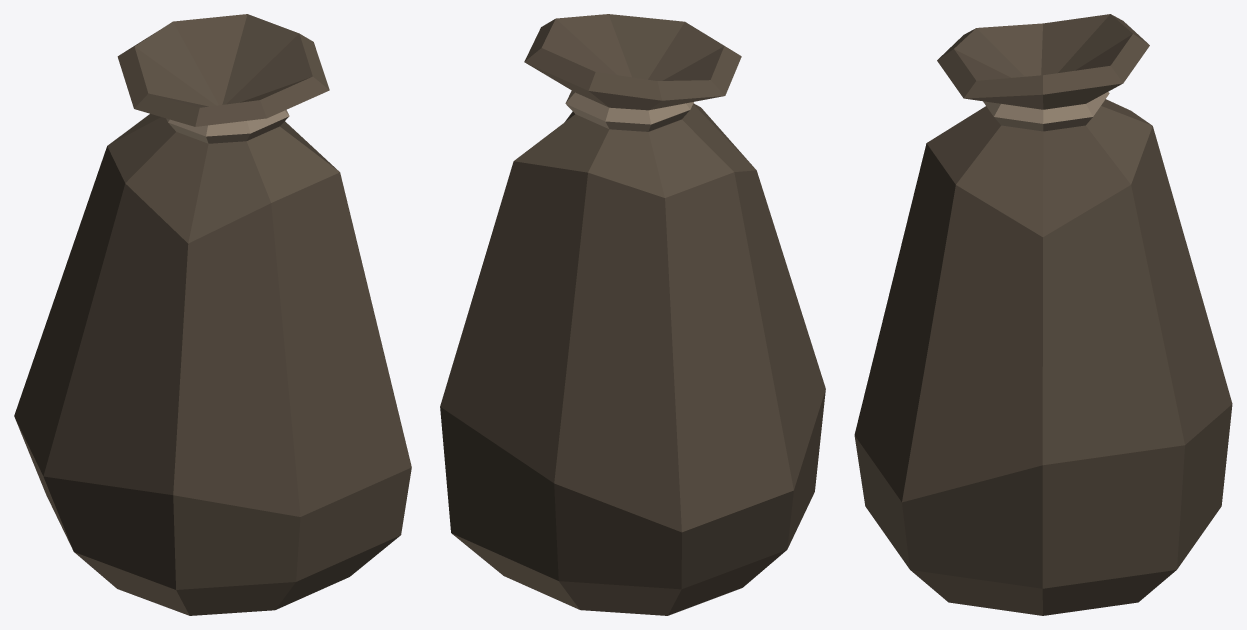
The model's file is SM_Prop_Sack_03.glb.
The picture shows the model from 3 angles, left to right: view 1: azimuth 30°, elevation 25°; view 2: azimuth 150°, elevation 25°; view 3: azimuth 270°, elevation 25°; orthographic projection. The views are drawn at different scales.
Visible parts, largest first — view 1: SM_Prop_Sack_03; view 2: SM_Prop_Sack_03; view 3: SM_Prop_Sack_03.
Boxes of the visible parts, x1,y1,x2,y2 form: SM_Prop_Sack_03: [14, 14, 411, 615]; SM_Prop_Sack_03: [440, 14, 825, 615]; SM_Prop_Sack_03: [854, 14, 1232, 615].
Size of the model in its own units: 0.00497 by 0.0074 by 0.00483.
